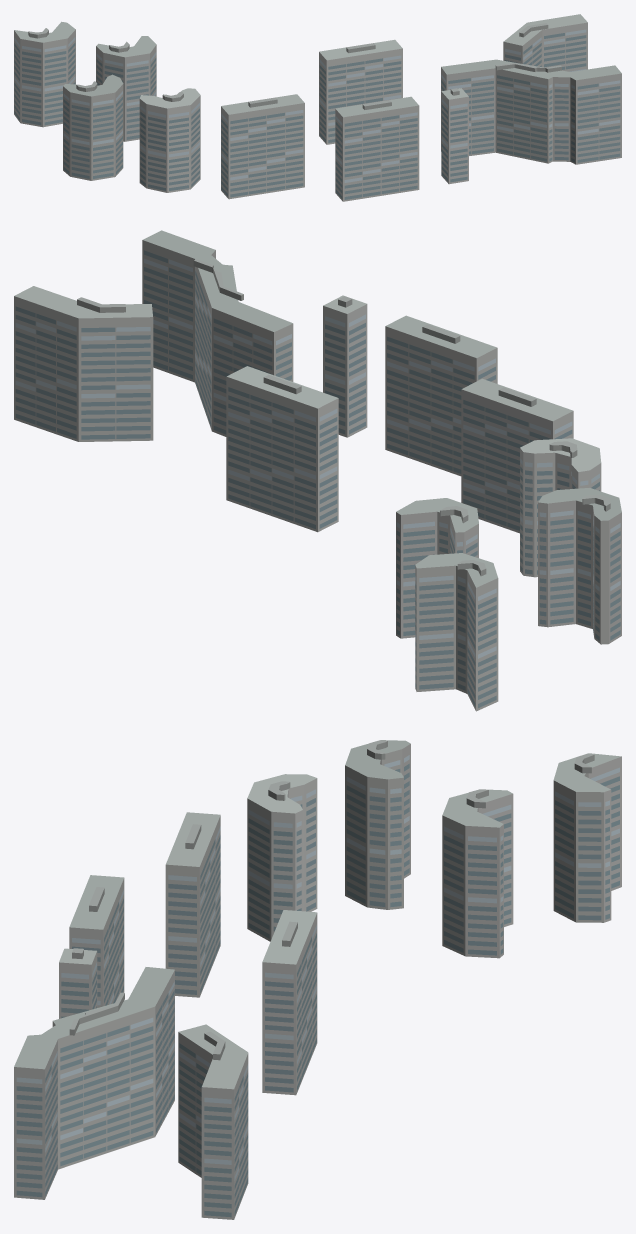
Rendered from apt-a13981901.glb.
3 views of the same model, one above another, from view 1: azimuth 30°, elevation 25°; view 2: azimuth 150°, elevation 25°; view 3: azimuth 270°, elevation 25° (orthographic). The views are drawn at different scales.
Visible parts, largest first — view 1: apt-a13981901; view 2: apt-a13981901; view 3: apt-a13981901.
Boxes of the visible parts, x1,y1,x2,y2 form: apt-a13981901: (14,14,621,201); apt-a13981901: (14,230,621,711); apt-a13981901: (14,740,621,1219).
Bounding box in the file's own units: 262 × 47.81 × 193.
